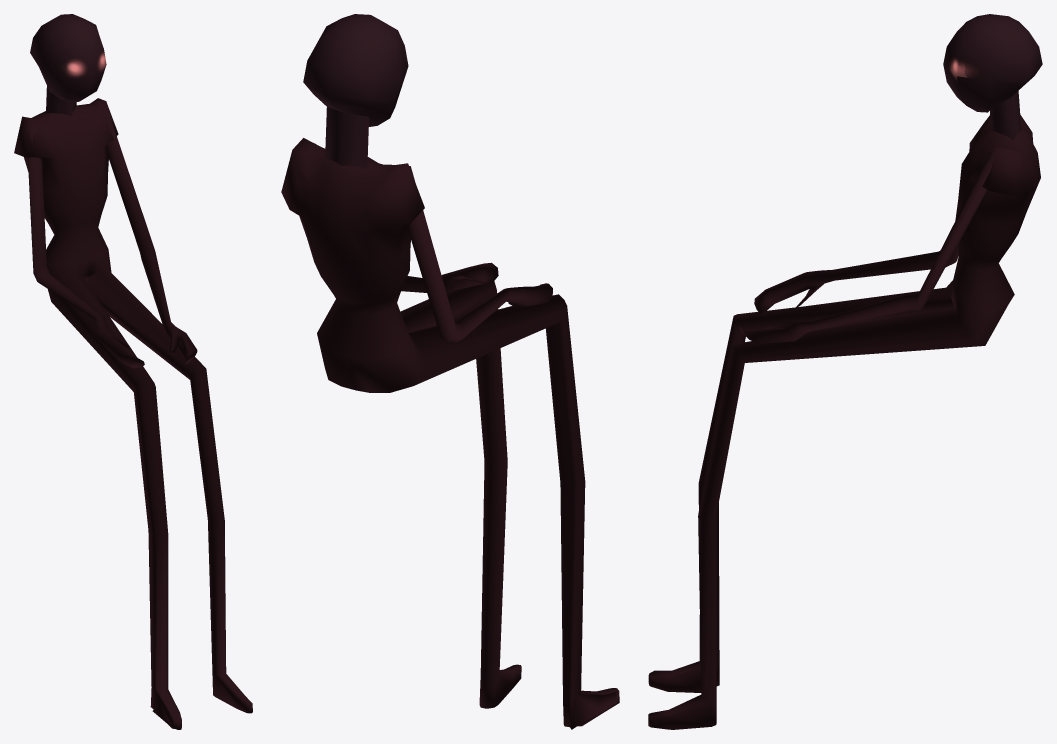
Rendered from creepy_audience_sitting.fbx.
The picture shows the model from 3 angles, left to right: view 1: azimuth 30°, elevation 25°; view 2: azimuth 150°, elevation 25°; view 3: azimuth 270°, elevation 25°; orthographic projection. The views are drawn at different scales.
Visible parts, largest first — view 1: audience body, audience head; view 2: audience body, audience head; view 3: audience body, audience head.
Part boxes in pixels (bbox=[...]): audience body: bbox=[14, 86, 252, 729]; audience head: bbox=[30, 14, 106, 101]; audience body: bbox=[281, 107, 619, 729]; audience head: bbox=[303, 14, 408, 126]; audience body: bbox=[648, 91, 1040, 729]; audience head: bbox=[943, 14, 1042, 112].
Bounding box in the file's own units: 71.89 × 382 × 197.
